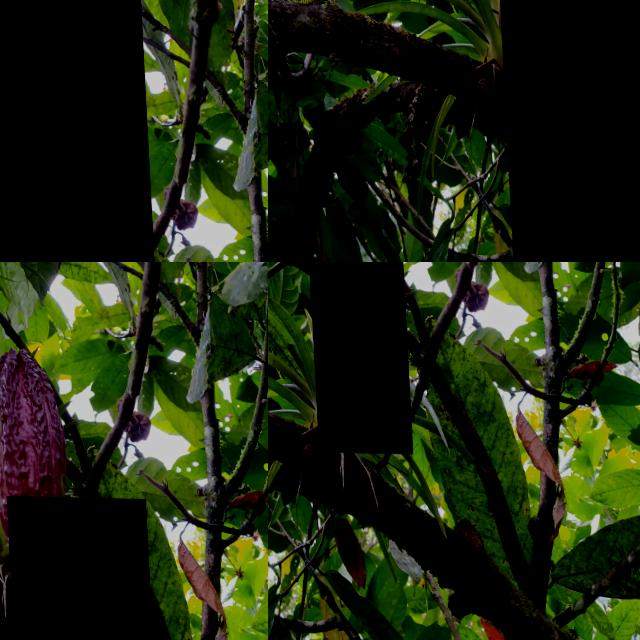Monilia: (489, 0, 640, 262)
Sana: (0, 0, 161, 262), (2, 494, 154, 640), (305, 262, 408, 451)
